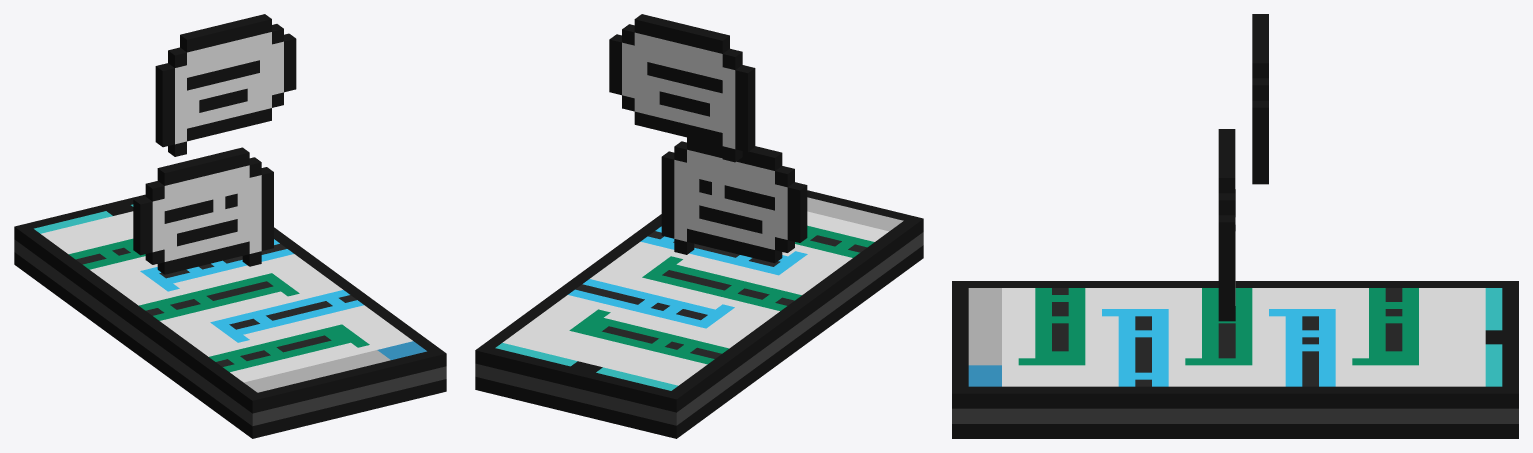
File: phone.glb
3 renders of one model, left to right at view 1: azimuth 30°, elevation 25°; view 2: azimuth 150°, elevation 25°; view 3: azimuth 270°, elevation 25°, orthographic. The views are drawn at different scales.
Visible parts, largest first — view 1: phone; view 2: phone; view 3: phone.
Boxes of the visible parts, bbox=[...] form: phone: bbox=[14, 14, 446, 438]; phone: bbox=[475, 14, 923, 438]; phone: bbox=[952, 14, 1518, 438].
Bounding box in the file's own units: 1.6 × 2.3 × 3.4.
Materials: 1 (1 with a texture image).
